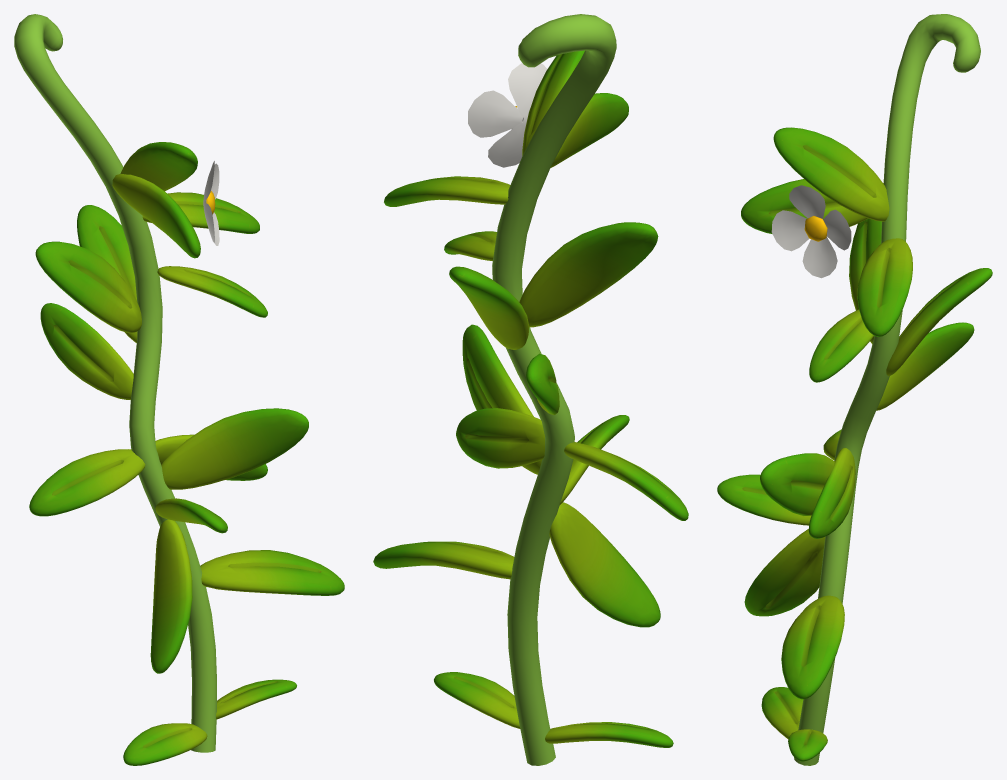
File: Farmhouse_ROOM_flowerivy_v01.glb
The picture shows the model from 3 angles, left to right: view 1: azimuth 30°, elevation 25°; view 2: azimuth 150°, elevation 25°; view 3: azimuth 270°, elevation 25°; orthographic projection. The views are drawn at different scales.
Parts seen in each view (by area): view 1: Farmhouse_ROOM_flowerivy_v01; view 2: Farmhouse_ROOM_flowerivy_v01; view 3: Farmhouse_ROOM_flowerivy_v01.
Boxes of the visible parts, x1,y1,x2,y2 form: Farmhouse_ROOM_flowerivy_v01: [14, 14, 344, 765]; Farmhouse_ROOM_flowerivy_v01: [373, 14, 688, 765]; Farmhouse_ROOM_flowerivy_v01: [717, 14, 992, 765].
Bounding box in the file's own units: 0.5461 × 1.28 × 0.4573.
Materials: 4 (1 with a texture image).
